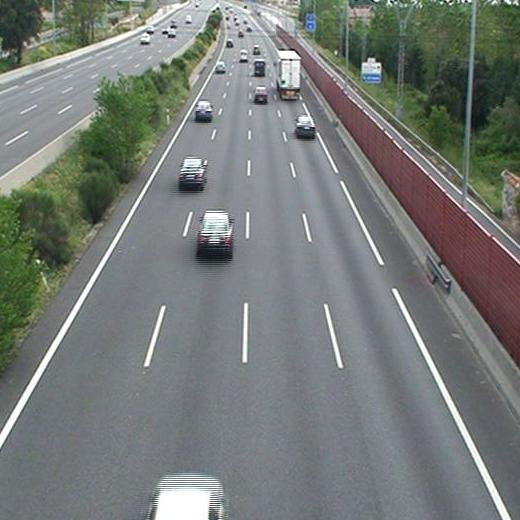car: (198, 210, 231, 248), (179, 158, 205, 183), (295, 116, 316, 135), (195, 101, 213, 118), (254, 87, 267, 101), (214, 61, 226, 72), (252, 45, 260, 56)
truck: (275, 50, 299, 98)
van: (255, 60, 266, 74), (240, 50, 247, 63)
